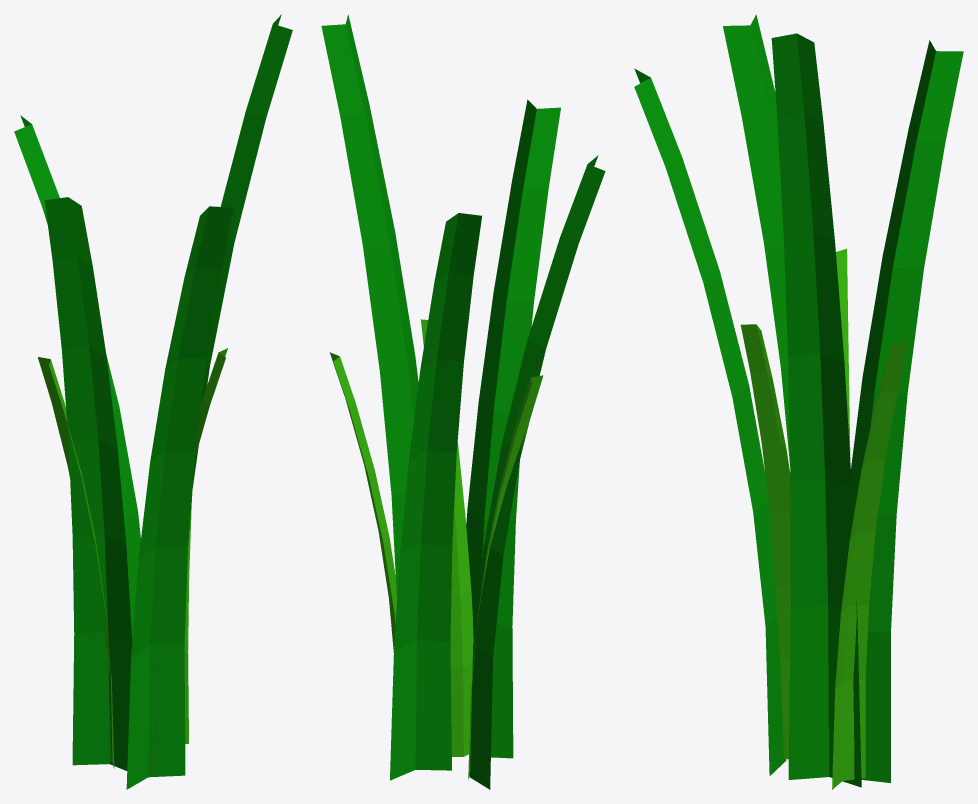
File: grass.obj
3 renders of one model, left to right at view 1: azimuth 30°, elevation 25°; view 2: azimuth 150°, elevation 25°; view 3: azimuth 270°, elevation 25°, orthographic. The views are drawn at different scales.
Parts seen in each view (by area): view 1: Plane.006_Plane.023; view 2: Plane.006_Plane.023; view 3: Plane.006_Plane.023.
Boxes of the visible parts, bbox=[...] form: Plane.006_Plane.023: bbox=[14, 14, 292, 789]; Plane.006_Plane.023: bbox=[321, 14, 605, 789]; Plane.006_Plane.023: bbox=[634, 14, 963, 789].
Size of the model in its own units: 5.37 by 14.04 by 5.25.
